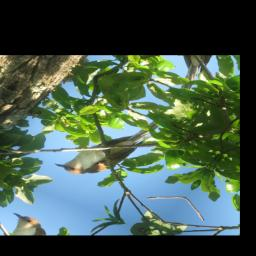Cuckoo: (50, 100, 165, 189)
